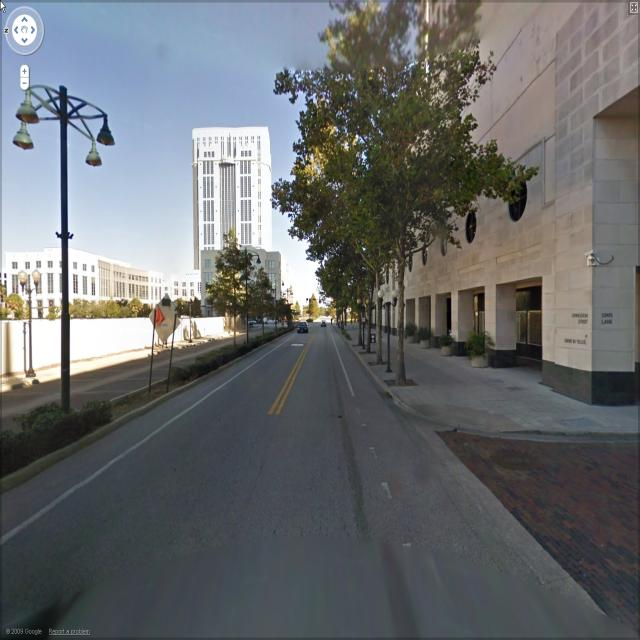b_1: (7, 256, 207, 334)
b_2: (347, 1, 640, 408), (0, 255, 210, 319), (188, 126, 284, 253), (211, 248, 295, 342)
